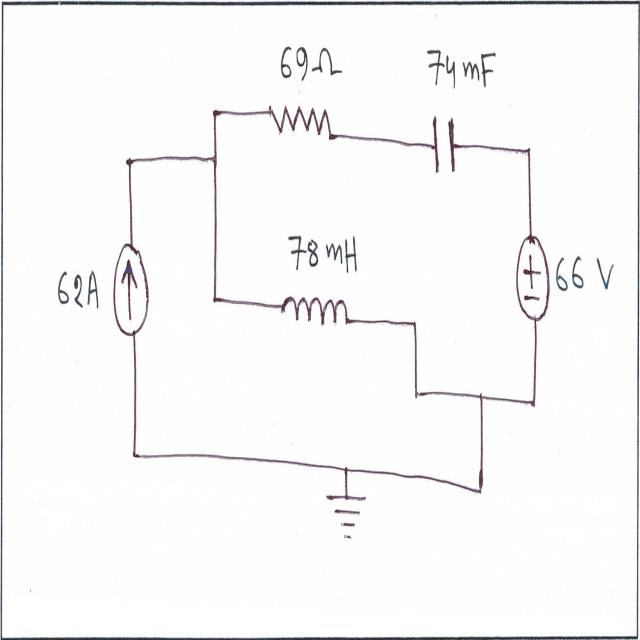capacitor: (432, 106, 458, 182)
current_source: (110, 239, 153, 342)
ground: (325, 483, 372, 553)
inductor: (277, 292, 350, 333)
resistor: (265, 94, 335, 150)
voltage_source: (513, 224, 555, 332)
